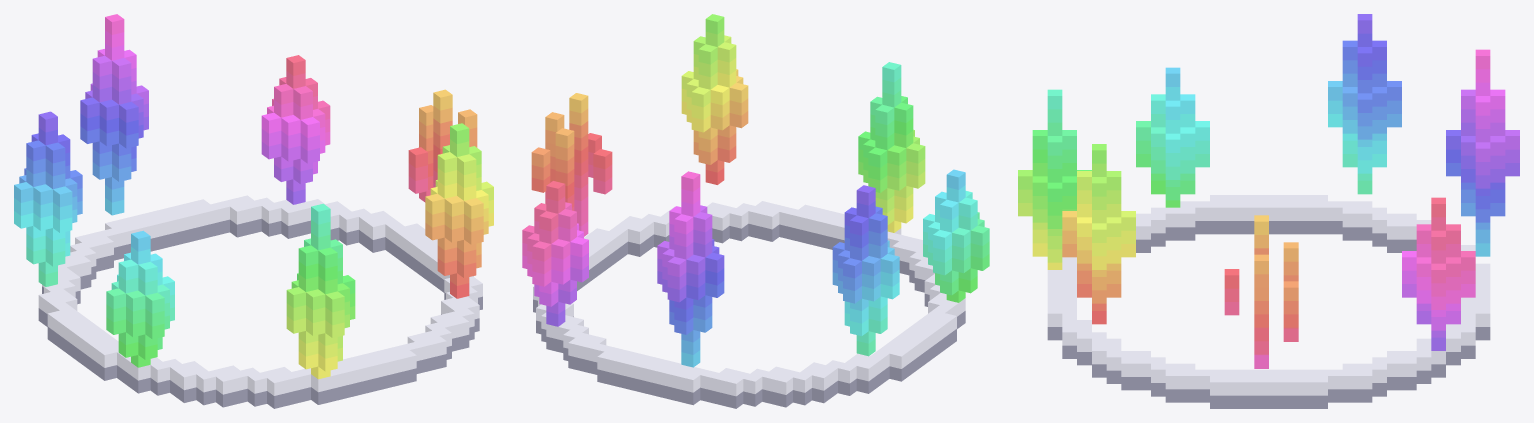
File: owner_crystal_crown_hat.glb
The picture shows the model from 3 angles, left to right: view 1: azimuth 30°, elevation 25°; view 2: azimuth 150°, elevation 25°; view 3: azimuth 270°, elevation 25°; orthographic projection. The views are drawn at different scales.
Parts seen in each view (by area): view 1: Owner Floating Crystals; view 2: Owner Floating Crystals; view 3: Owner Floating Crystals.
Part boxes in pixels (<box>): Owner Floating Crystals: <box>14,14,493,408</box>; Owner Floating Crystals: <box>522,14,989,408</box>; Owner Floating Crystals: <box>1018,14,1519,408</box>.
Size of the model in its own units: 0.5156 by 0.2812 by 0.5312.
Materials: 1 (1 with a texture image).
